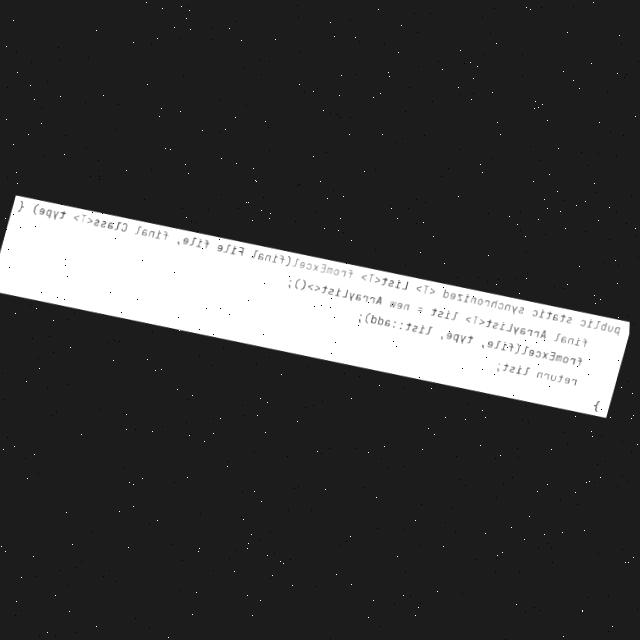code_screen: (0, 194, 630, 416)
